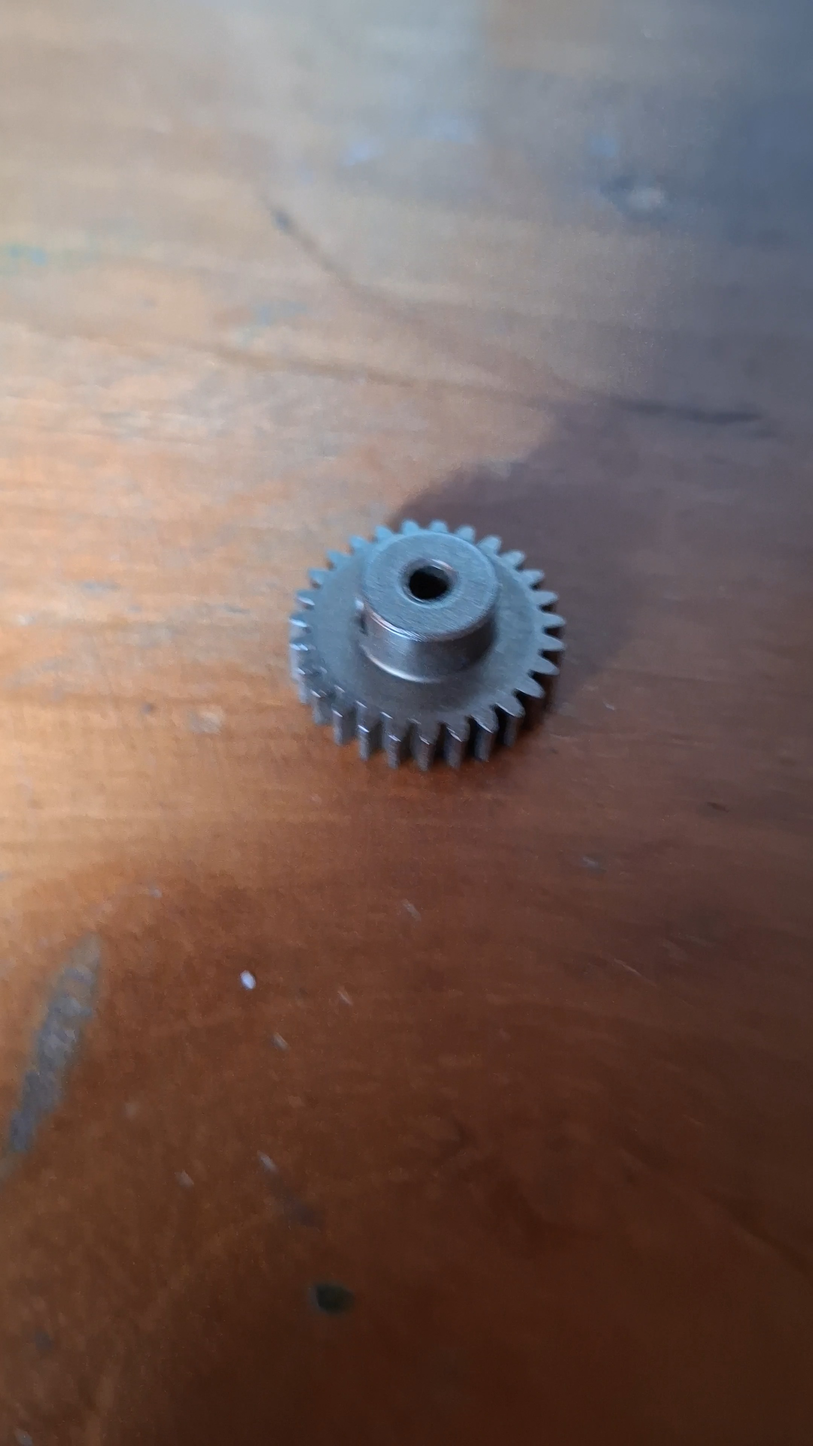spur gear: (290, 521, 563, 768)
